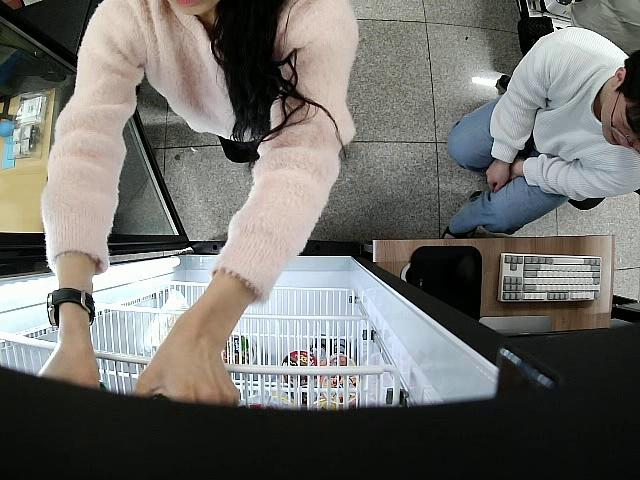00_hand: (131, 343, 243, 409)
